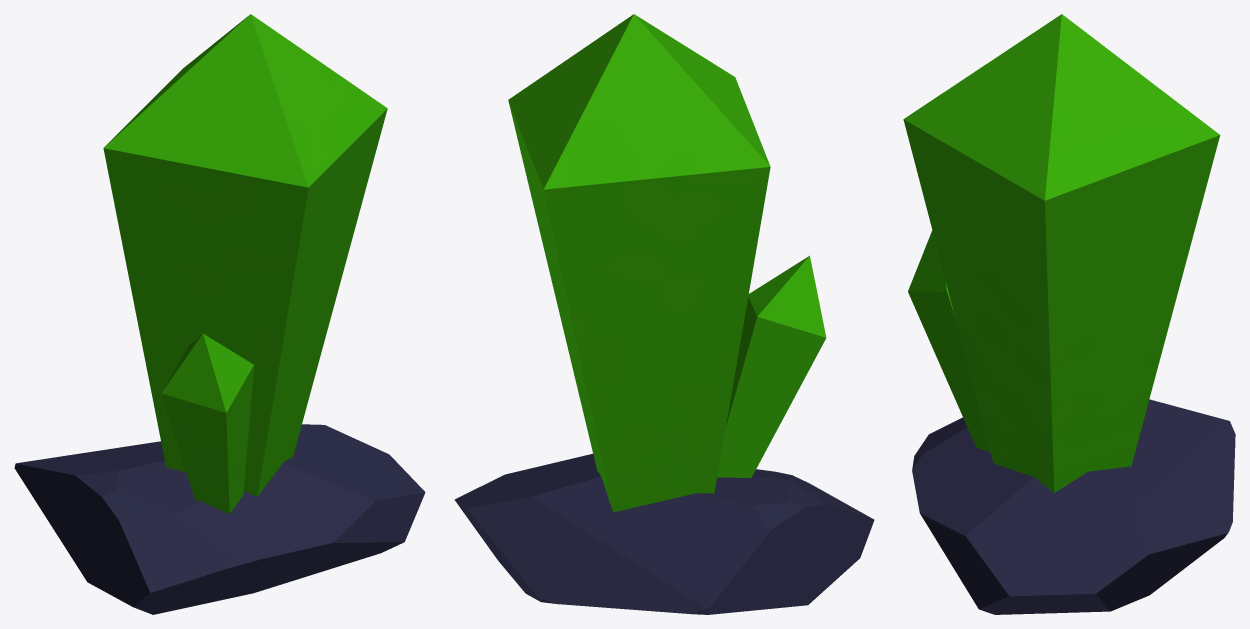
The picture shows the model from 3 angles, left to right: view 1: azimuth 30°, elevation 25°; view 2: azimuth 150°, elevation 25°; view 3: azimuth 270°, elevation 25°; orthographic projection. The views are drawn at different scales.
Visible parts, largest first — view 1: Nó 8; view 2: Nó 8; view 3: Nó 8.
Part boxes in pixels (x1,y1,x2,y2): Nó 8: (14, 14, 425, 614); Nó 8: (454, 14, 874, 614); Nó 8: (903, 14, 1235, 614).
Size of the model in its own units: 77.28 by 128 by 67.35.
2 materials, 1 textured.
